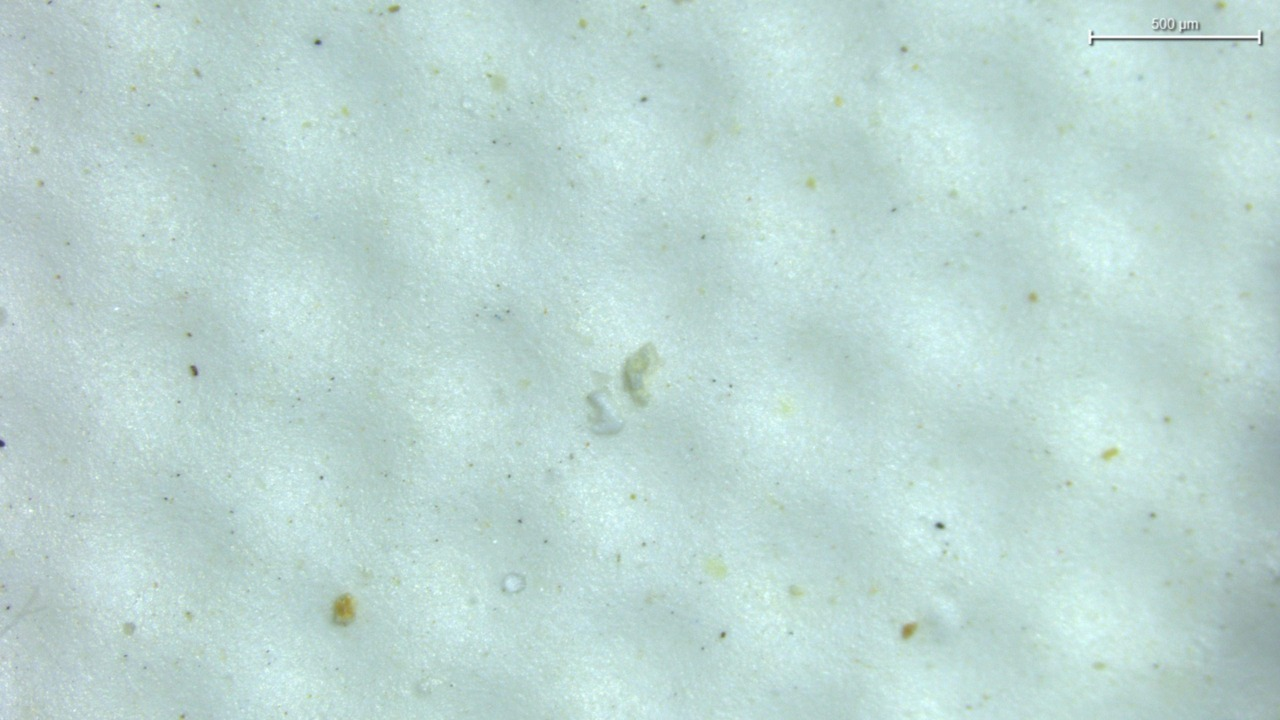microplastic_fragment: (622, 343, 659, 407), (587, 391, 622, 434)
